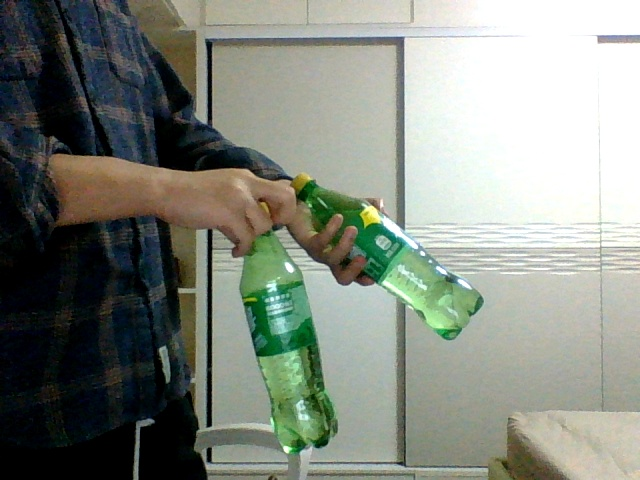Sprite: (291, 173, 484, 340), (240, 204, 338, 452)
